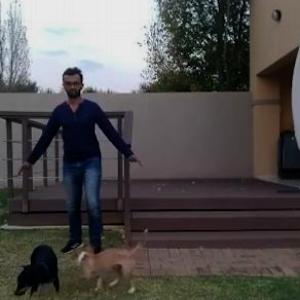land: (29, 66, 143, 263)
